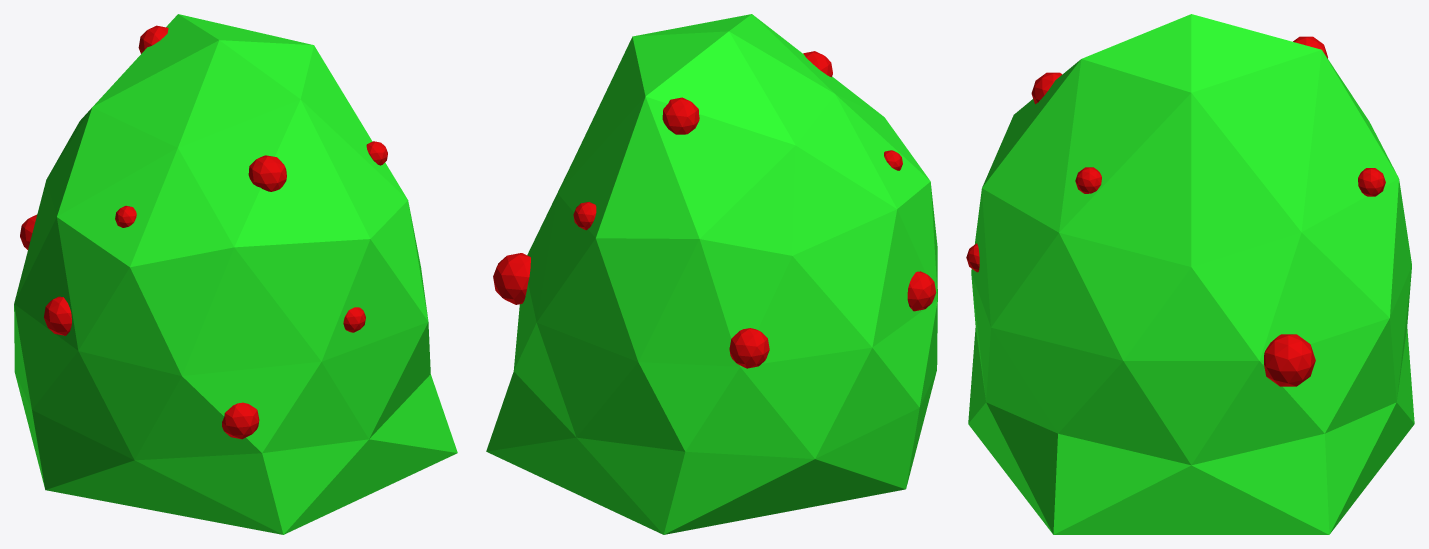
File: bush.fbx
3 renders of one model, left to right at view 1: azimuth 30°, elevation 25°; view 2: azimuth 150°, elevation 25°; view 3: azimuth 270°, elevation 25°, orthographic. The views are drawn at different scales.
Parts seen in each view (by area): view 1: Icosphere, Icosphere.010; view 2: Icosphere, Icosphere.010; view 3: Icosphere, Icosphere.010.
Part boxes in pixels (x1,y1,x2,y2): Icosphere: [14, 14, 457, 534]; Icosphere.010: [20, 25, 387, 439]; Icosphere: [486, 14, 937, 534]; Icosphere.010: [493, 51, 936, 368]; Icosphere: [968, 14, 1414, 534]; Icosphere.010: [966, 36, 1385, 386].
Size of the model in its own units: 65.57 by 69.56 by 65.12.
